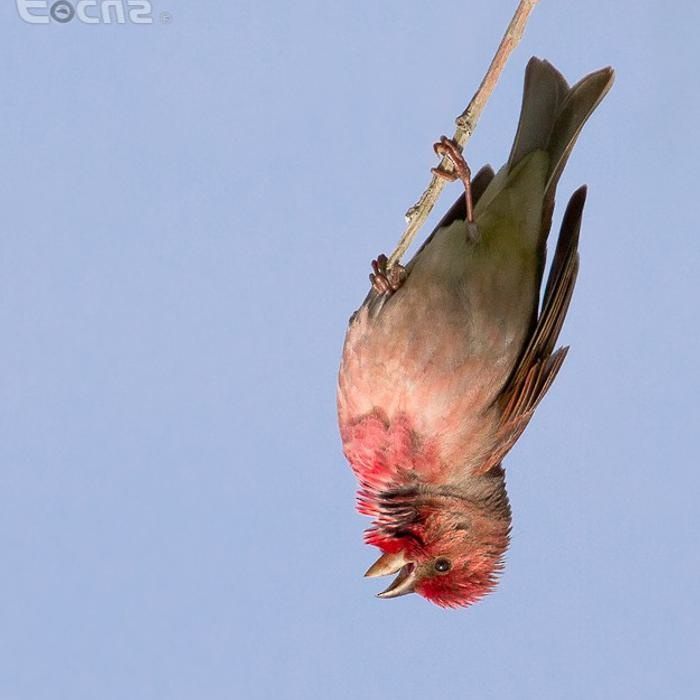rosefinch: (335, 47, 622, 630)
